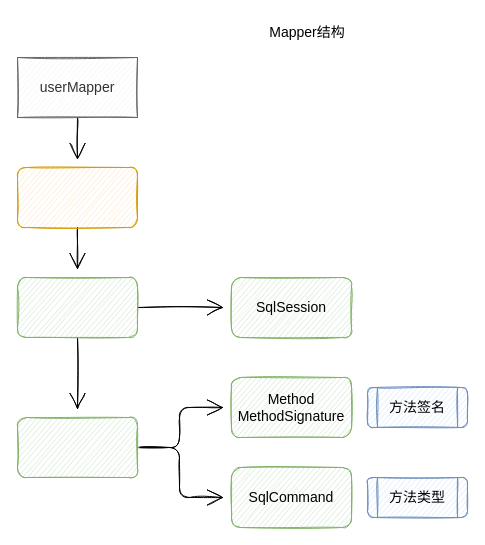
This 485x545 diagram has some shape labels left out. The shapes that lost their labels are listed below. From the top down, each one's centre as x and y in pixels, then its label:
At (x=77, y=197): "$Proxy".
At (x=77, y=307): "MapperProxy".
At (x=77, y=447): "MapperMethod".
